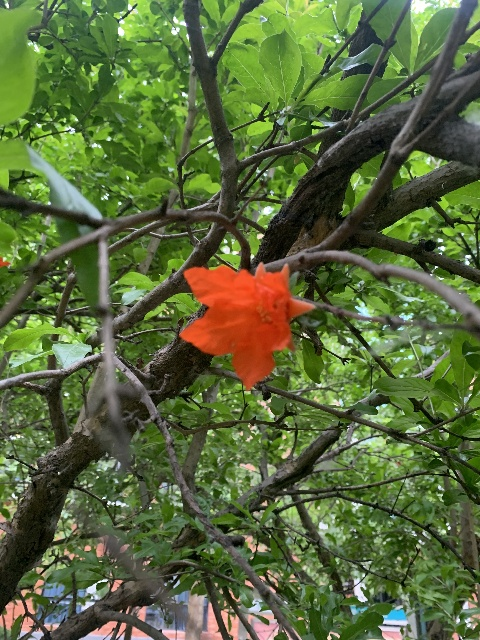flower: (179, 260, 315, 390)
